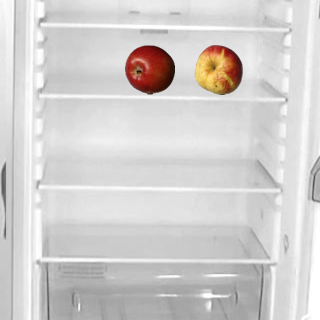Apple Braeburn: (124, 44, 174, 94)
Apple Red Yellow 1: (193, 44, 243, 94)
